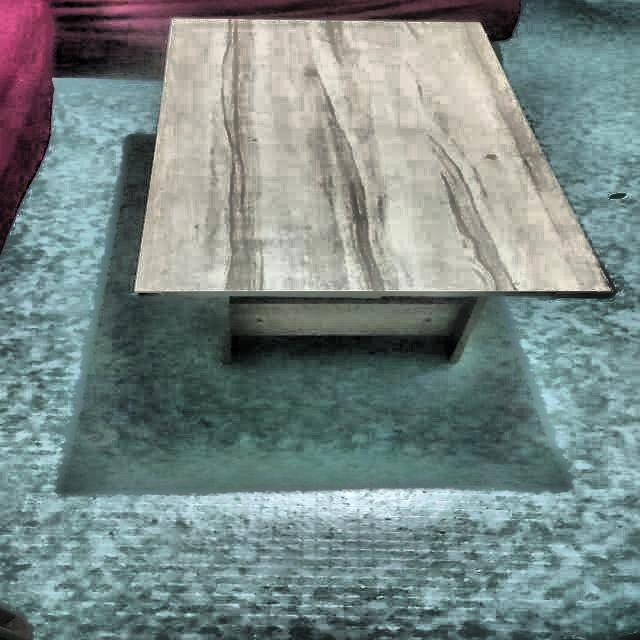mesa: (124, 16, 614, 386)
